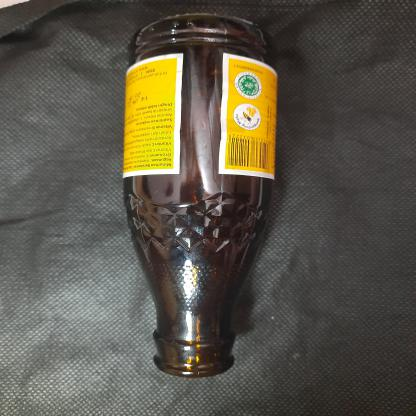glass: (112, 7, 287, 379)
